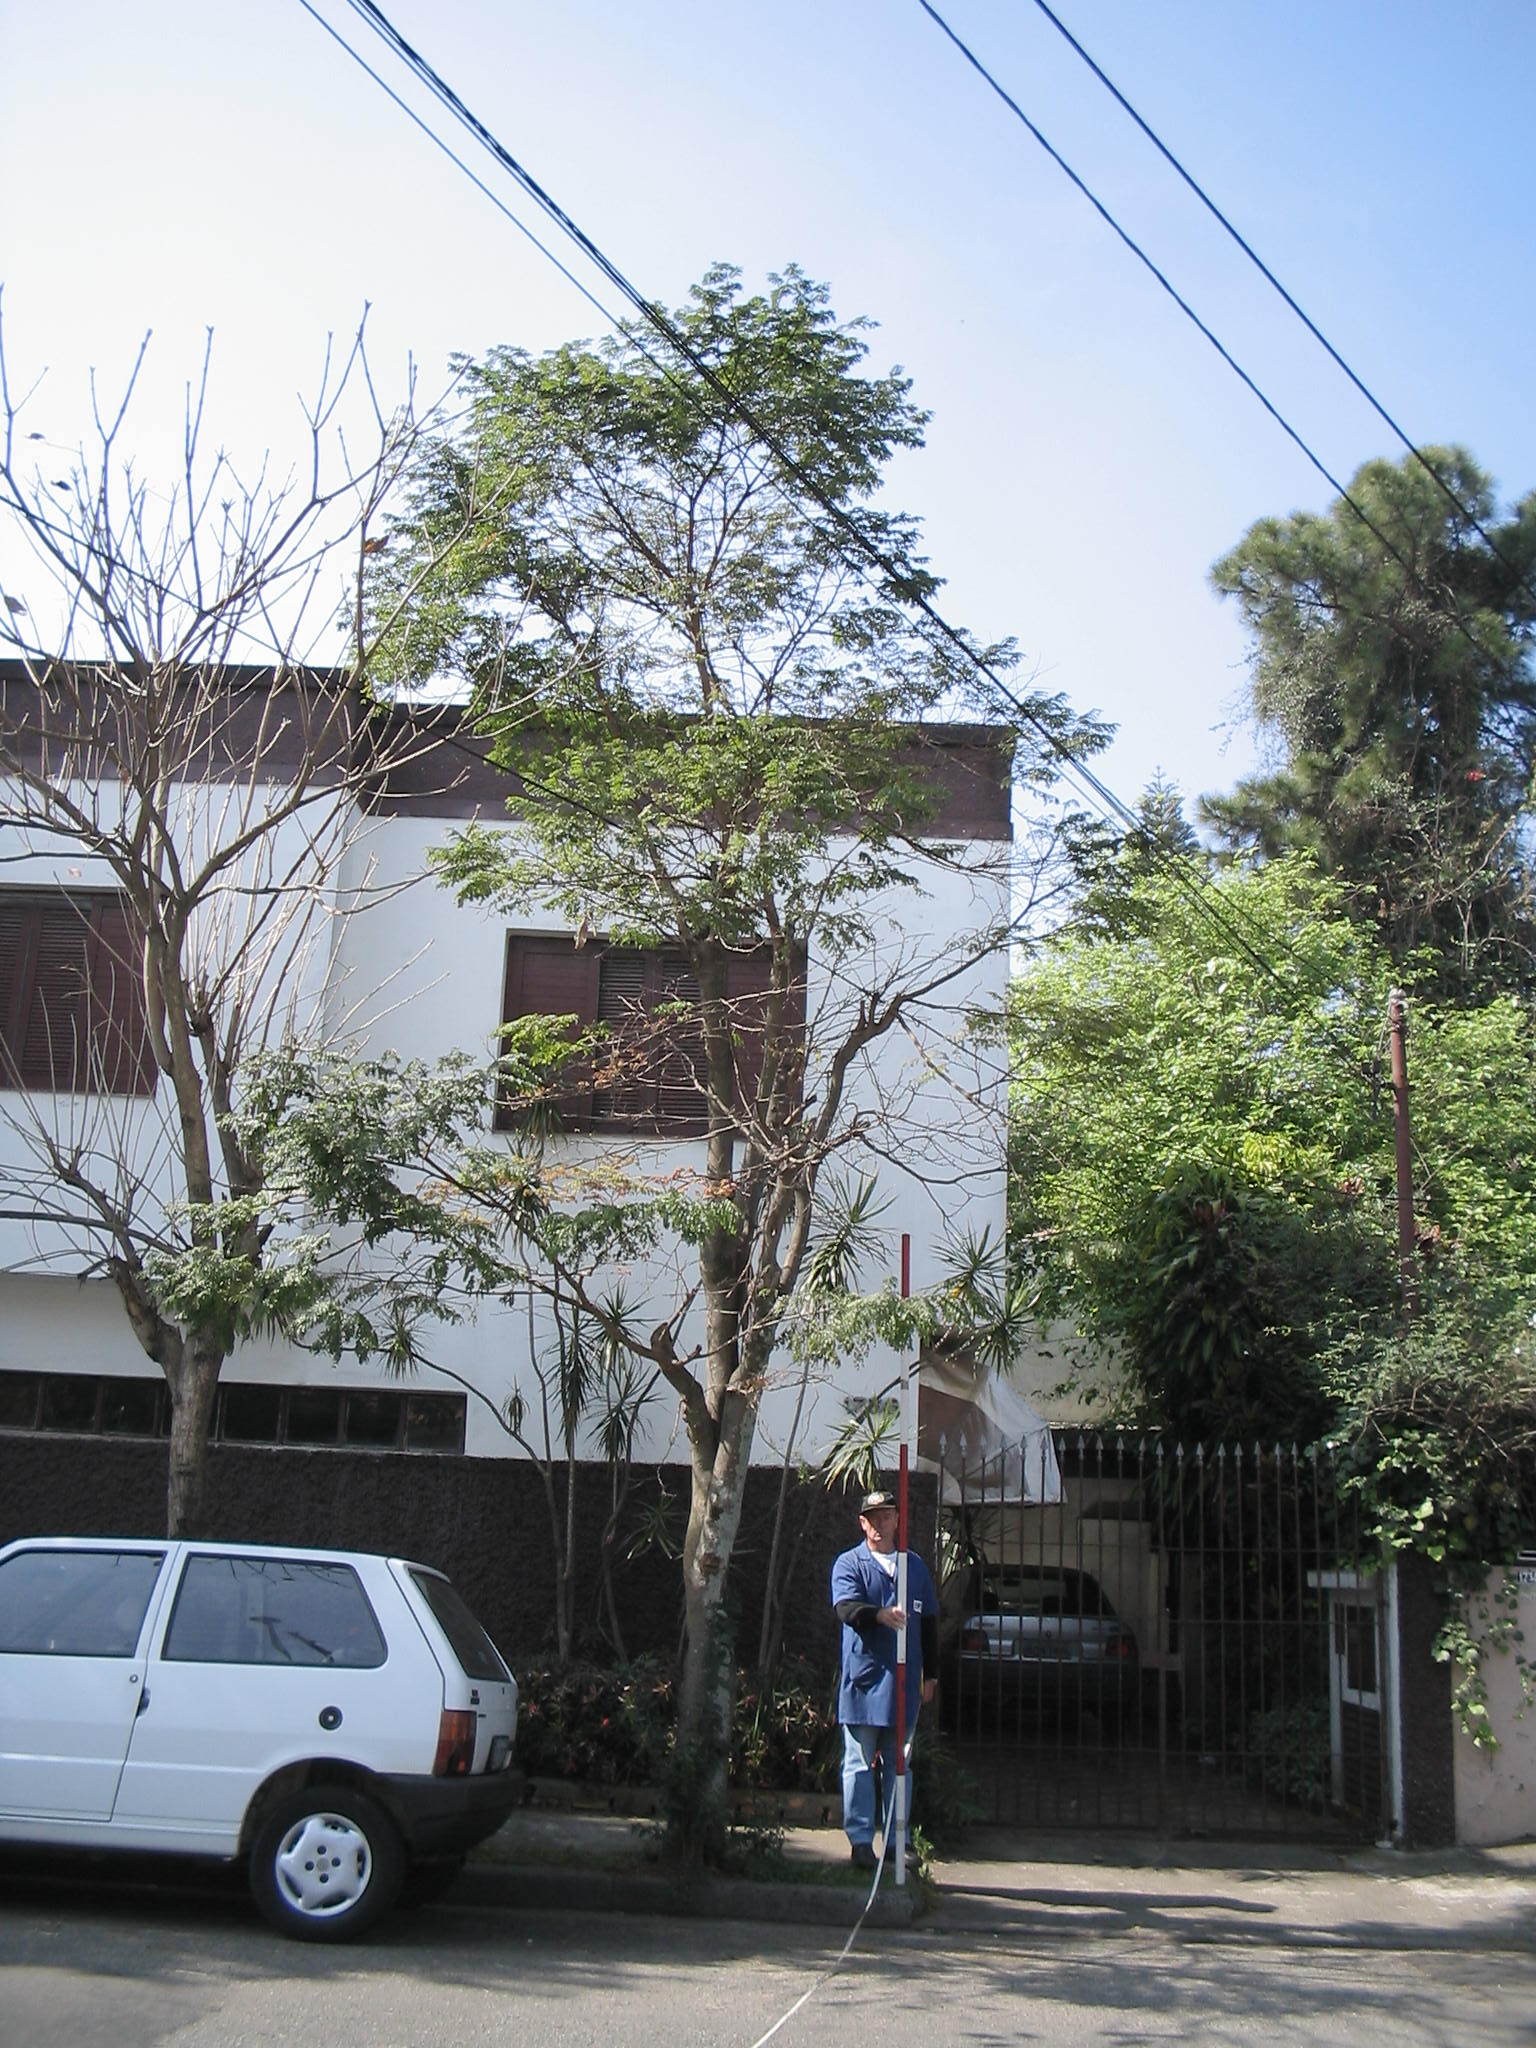crown: (173, 268, 1120, 1413)
stem: (623, 1458, 794, 1879)
stick: (860, 1232, 954, 1890)
tree: (161, 261, 1125, 1884), (2, 274, 545, 1545)
